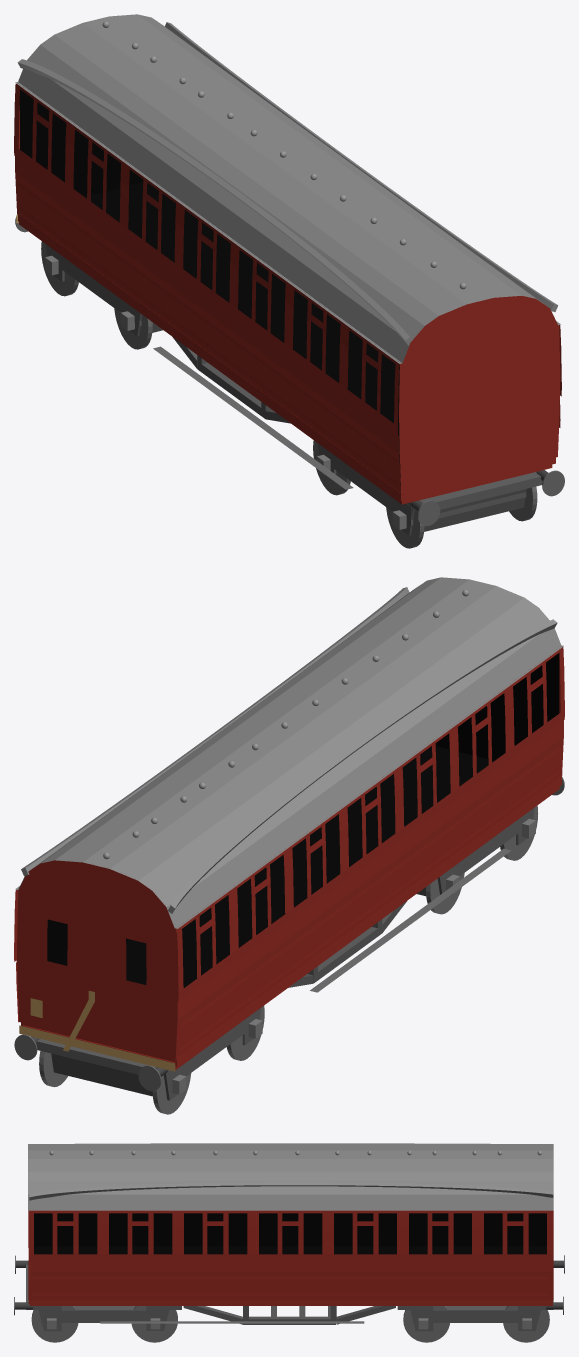
The model's file is lner-standard-51ft-first-carmine.dae.
3 renders of one model, top to bottom at view 1: azimuth 30°, elevation 25°; view 2: azimuth 150°, elevation 25°; view 3: azimuth 270°, elevation 25°, orthographic. The views are drawn at different scales.
Visible parts, largest first — view 1: Plane_083, Plane_001, Plane_359, Plane_019, Plane_002, Plane_009, Plane_012, Cube_029, Cube_043, Cube_070, Cube_028, Plane_007 (+4 smaller); view 2: Plane_083, Plane_006, Plane_359, Plane_019, Plane_002, Plane_009, Cube_043, Plane_012, Cube_029, Cube_028, Plane_003, Plane_008 (+4 smaller); view 3: Plane_002, Plane_359, Plane_019, Plane_011, Plane_083, Cube_043, Cube_028, Plane_012, Cube_072, Plane_007, Plane_008, Cylinder_000 (+7 smaller).
Part boxes in pixels (box(x1,y1,x2,y2)): Plane_083: box(15, 20, 478, 363); Plane_001: box(399, 296, 560, 494); Plane_359: box(15, 85, 559, 494); Plane_019: box(19, 89, 400, 485); Plane_002: box(95, 14, 560, 325); Plane_009: box(14, 84, 399, 436); Plane_012: box(18, 213, 555, 501); Cube_029: box(17, 59, 411, 345); Cube_043: box(41, 241, 162, 349); Cube_070: box(401, 472, 542, 535); Cube_028: box(165, 22, 558, 311); Plane_007: box(19, 222, 552, 504); Plane_083: box(97, 583, 563, 928); Plane_006: box(17, 860, 178, 1059); Plane_359: box(16, 647, 563, 1060); Plane_019: box(47, 653, 559, 987); Plane_002: box(15, 577, 482, 889); Plane_009: box(177, 647, 564, 1001); Cube_043: box(36, 1006, 264, 1114); Plane_012: box(21, 777, 561, 1066); Cube_029: box(168, 619, 557, 913); Cube_028: box(21, 587, 409, 875); Plane_003: box(19, 991, 175, 1071); Plane_008: box(310, 848, 511, 992); Plane_002: box(28, 1154, 553, 1210); Plane_359: box(28, 1210, 553, 1300); Plane_019: box(34, 1213, 546, 1254); Plane_011: box(28, 1211, 553, 1260); Plane_083: box(28, 1144, 553, 1154); Cube_043: box(397, 1300, 553, 1342); Cube_028: box(29, 1182, 553, 1200); Plane_012: box(28, 1300, 552, 1303); Cube_072: box(41, 1306, 165, 1322); Plane_007: box(29, 1300, 552, 1305); Plane_008: box(100, 1321, 364, 1323); Cylinder_000: box(131, 1306, 177, 1342).
Bounding box in the file's own units: 2.09 × 8.92 × 3.07.
